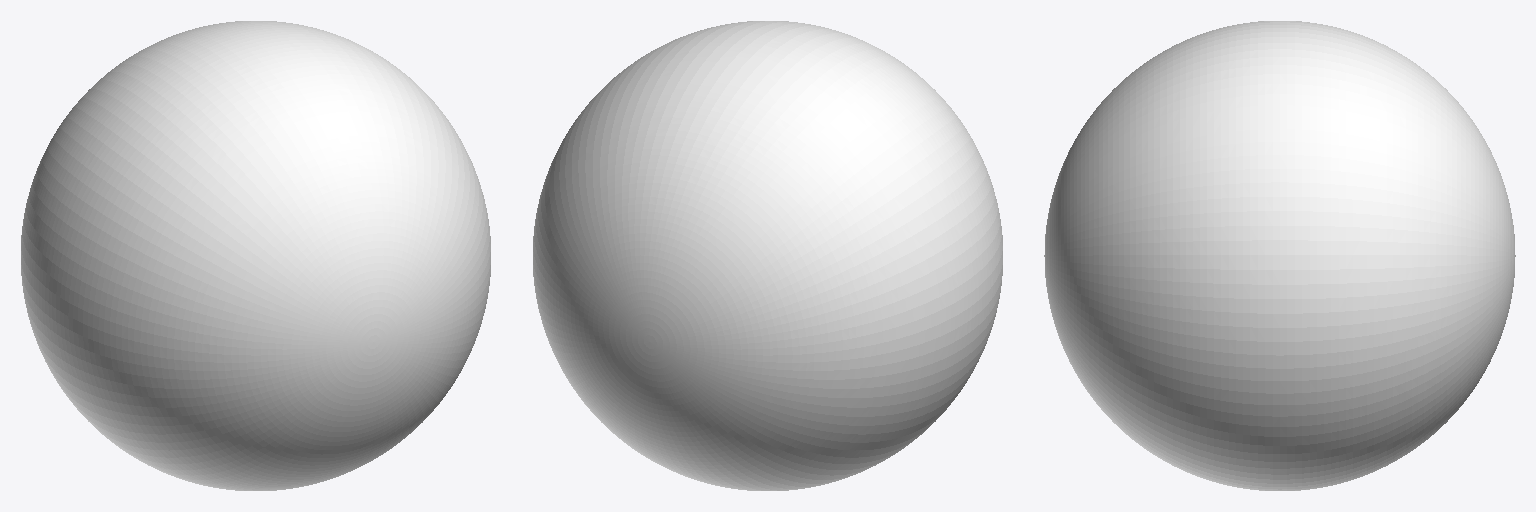
Rendered from sol.obj.
3 renders of one model, left to right at view 1: azimuth 30°, elevation 25°; view 2: azimuth 150°, elevation 25°; view 3: azimuth 270°, elevation 25°, orthographic.
Parts seen in each view (by area): view 1: Object.1; view 2: Object.1; view 3: Object.1.
Part boxes in pixels (left/top/right/bottom): Object.1: left=21, top=21, right=490, bottom=490; Object.1: left=533, top=21, right=1002, bottom=490; Object.1: left=1044, top=21, right=1515, bottom=490.
Bounding box in the file's own units: 4.54 × 4.54 × 4.54.